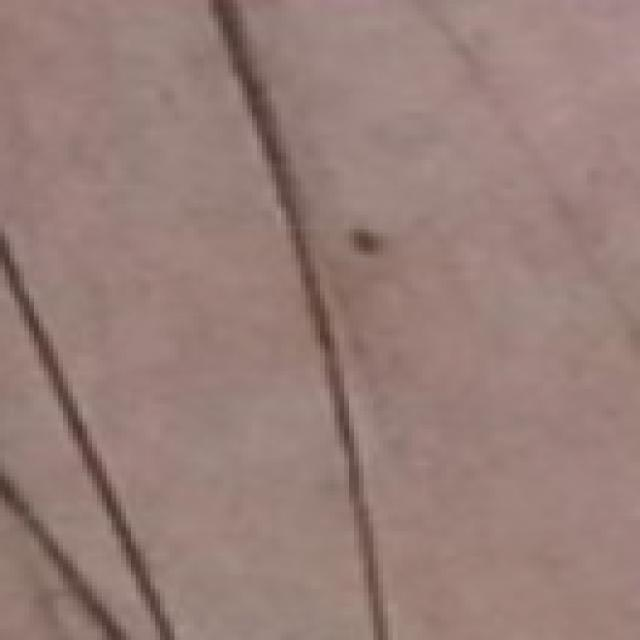blackhead: (350, 226, 382, 258)
